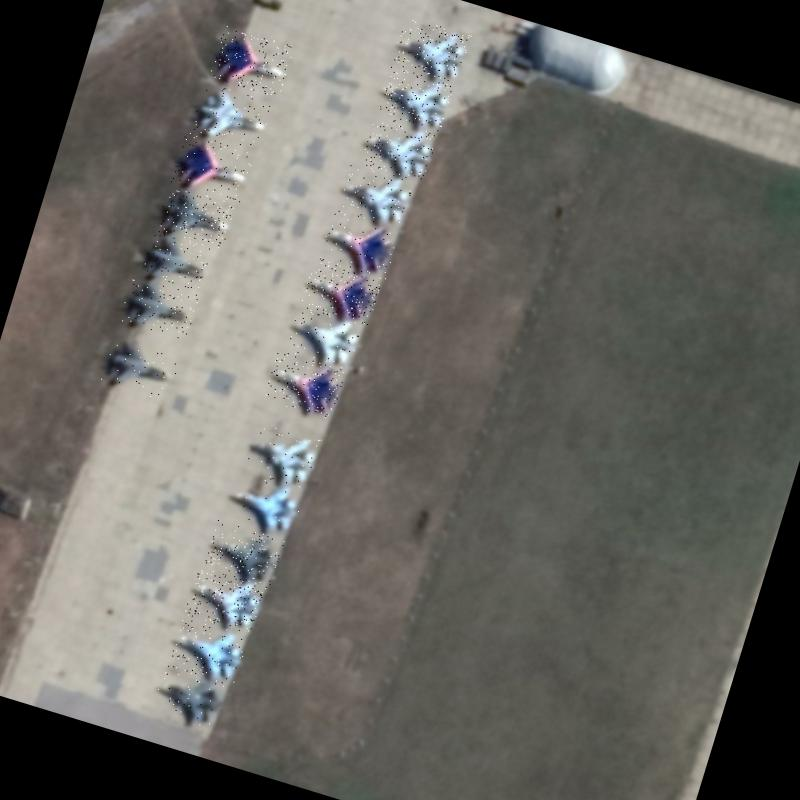A1: (208, 26, 294, 100), (170, 132, 255, 204), (224, 470, 306, 543), (318, 210, 401, 282), (168, 616, 251, 688), (263, 350, 346, 420), (184, 564, 267, 634), (300, 257, 384, 326), (100, 334, 182, 402), (118, 275, 200, 341), (284, 304, 364, 371), (204, 520, 285, 586), (155, 184, 236, 249), (140, 230, 213, 292)
A19: (190, 82, 274, 151), (242, 420, 323, 491), (360, 114, 438, 184), (392, 16, 472, 84), (336, 162, 415, 230), (376, 66, 454, 132), (151, 666, 227, 730)
